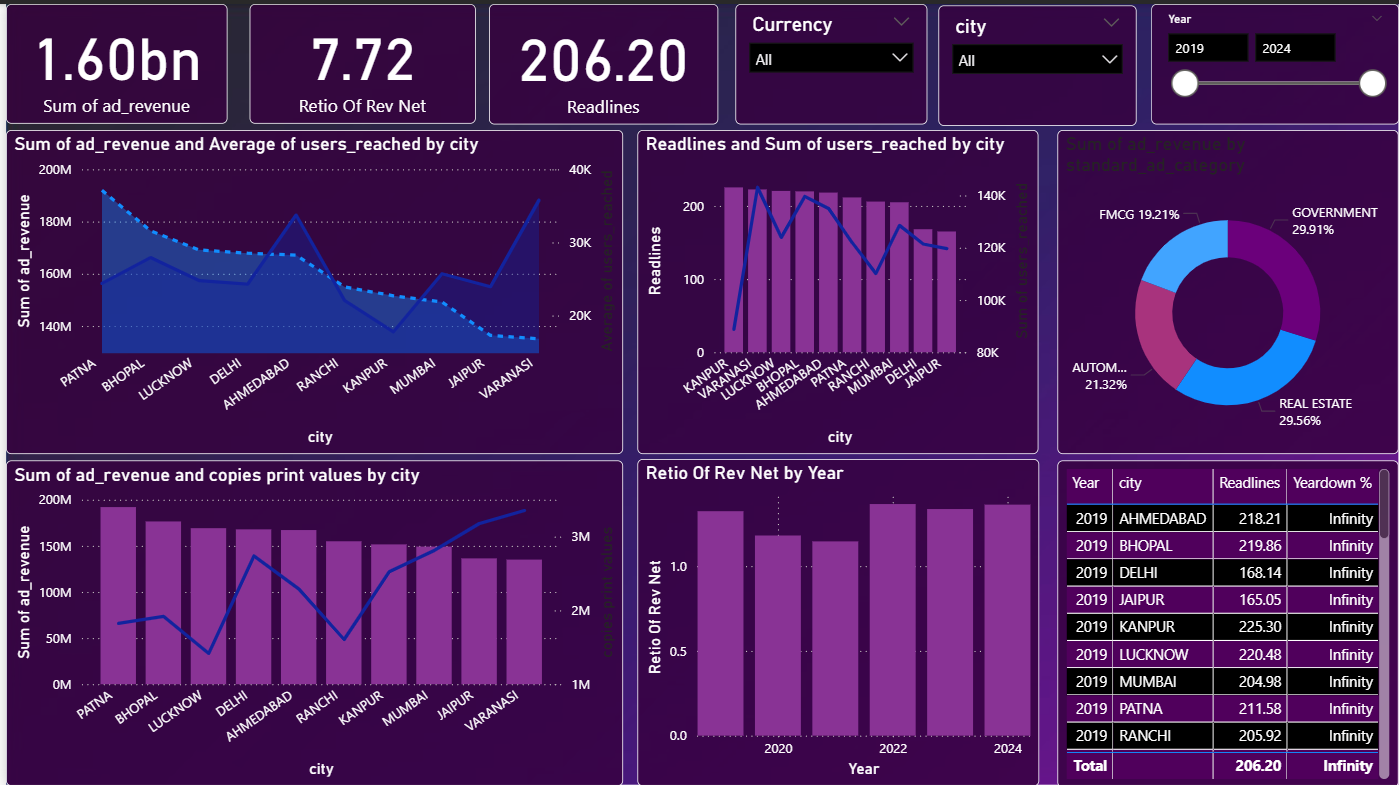

The page's visual inventory and layout, read from the dashboard file:
{"tool":"powerbi","page":{"name":"Page 1","canvas":[1280,720],"ordinal":0},"visuals":[{"type":"slicer","fields":{"Values":["fact_ad_revenue.currency"]},"box":[670.2,0,176.1,110.7],"z":0},{"type":"donutChart","fields":{"Category":["dim_ad_category.standard_ad_category"],"Y":["Sum(fact_ad_revenue.ad_revenue)"]},"box":[966.3,115.3,313.3,297.7],"z":1000},{"type":"slicer","fields":{"Values":["fact_ad_revenue.Year.Variation.Date Hierarchy.Year"]},"box":[1052,0,227.5,110.7],"z":2000},{"type":"slicer","fields":{"Values":["dim_city.city"]},"box":[857.2,1.6,182.3,110.7],"z":3000},{"type":"card","fields":{"Values":["Sum(fact_ad_revenue.ad_revenue)"]},"box":[0,0,203.8,109.7],"z":4000},{"type":"lineStackedColumnComboChart","fields":{"Category":["dim_city.city"],"Y":["Sum(fact_ad_revenue.ad_revenue)"],"Y2":["fact_print_sales.copies print values"]},"box":[0,419.2,567.3,299.2],"z":5000},{"type":"lineStackedColumnComboChart","fields":{"Category":["dim_city.city"],"Y2":["Sum(fact_digital_pilot.users_reached)"],"Y":["fact_city_readiness.Readlines"]},"box":[580,115.6,368.4,297.8],"z":6000},{"type":"areaChart","fields":{"Category":["dim_city.city"],"Y":["Sum(fact_ad_revenue.ad_revenue)"],"Y2":["Avg(fact_digital_pilot.users_reached)"]},"box":[0,115.3,567.3,297.7],"z":7000},{"type":"columnChart","fields":{"Category":["fact_ad_revenue.Year.Variation.Date Hierarchy.Year"],"Y":["fact_ad_revenue.Retio Of Rev Net"]},"box":[579.8,417.7,369.4,300.8],"z":8000},{"type":"tableEx","fields":{"Values":["fact_print_sales.Month.Variation.Date Hierarchy.Year","dim_city.city","fact_city_readiness.Readlines","fact_print_sales.Yearly_Down_%"]},"box":[966.3,419.2,313.3,300.8],"z":9000},{"type":"card","fields":{"Values":["fact_ad_revenue.Retio Of Rev Net"]},"box":[223.4,0,207.7,109.7],"z":10000},{"type":"card","fields":{"Values":["fact_city_readiness.Readlines"]},"box":[444.2,0,210.4,110.7],"z":11000}]}

Visuals, with their boxes in screenshot pixels (x1, y1, x2, y2), scaled from the page's 1280x720 canvas onto the 1399x785 screenshot:
slicer - fact_ad_revenue.currency: {"left": 733, "top": 0, "right": 925, "bottom": 121}
donutChart - dim_ad_category.standard_ad_category x Sum(fact_ad_revenue.ad_revenue): {"left": 1056, "top": 126, "right": 1398, "bottom": 450}
slicer - fact_ad_revenue.Year.Variation.Date Hierarchy.Year: {"left": 1150, "top": 0, "right": 1398, "bottom": 121}
slicer - dim_city.city: {"left": 937, "top": 2, "right": 1136, "bottom": 122}
card - Sum(fact_ad_revenue.ad_revenue): {"left": 0, "top": 0, "right": 223, "bottom": 120}
lineStackedColumnComboChart - dim_city.city x Sum(fact_ad_revenue.ad_revenue): {"left": 0, "top": 457, "right": 620, "bottom": 783}
lineStackedColumnComboChart - dim_city.city x Sum(fact_digital_pilot.users_reached): {"left": 634, "top": 126, "right": 1037, "bottom": 451}
areaChart - dim_city.city x Sum(fact_ad_revenue.ad_revenue): {"left": 0, "top": 126, "right": 620, "bottom": 450}
columnChart - fact_ad_revenue.Year.Variation.Date Hierarchy.Year x fact_ad_revenue.Retio Of Rev Net: {"left": 634, "top": 455, "right": 1037, "bottom": 783}
tableEx - fact_print_sales.Month.Variation.Date Hierarchy.Year x dim_city.city: {"left": 1056, "top": 457, "right": 1398, "bottom": 784}
card - fact_ad_revenue.Retio Of Rev Net: {"left": 244, "top": 0, "right": 471, "bottom": 120}
card - fact_city_readiness.Readlines: {"left": 485, "top": 0, "right": 715, "bottom": 121}
